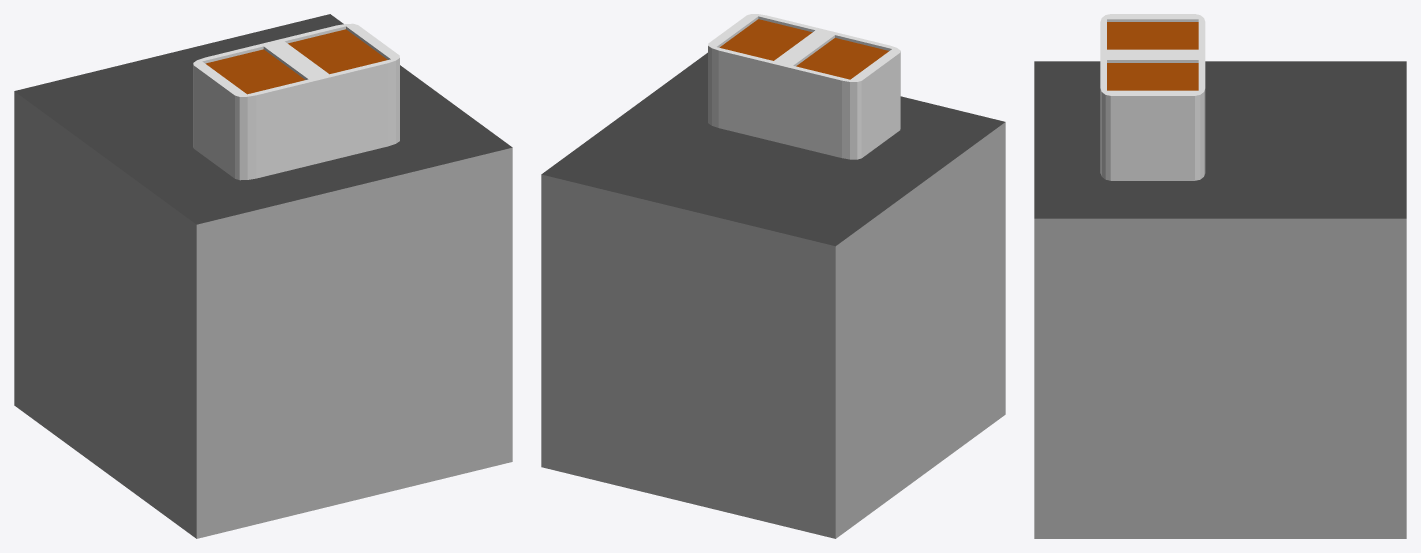
File: Building-Center.fbx
The picture shows the model from 3 angles, left to right: view 1: azimuth 30°, elevation 25°; view 2: azimuth 150°, elevation 25°; view 3: azimuth 270°, elevation 25°; orthographic projection. The views are drawn at different scales.
Parts seen in each view (by area): view 1: BuildingCenter; view 2: BuildingCenter; view 3: BuildingCenter.
Boxes of the visible parts, bbox=[...] form: BuildingCenter: bbox=[14, 14, 512, 538]; BuildingCenter: bbox=[541, 14, 1005, 538]; BuildingCenter: bbox=[1034, 14, 1406, 538].
Size of the model in its own units: 100 by 120 by 100.
